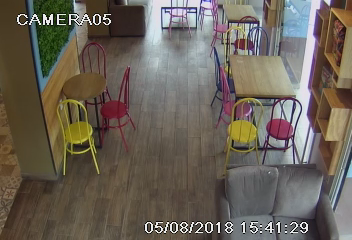libre: (209, 38, 305, 164), (38, 47, 141, 162), (209, 1, 263, 53)
